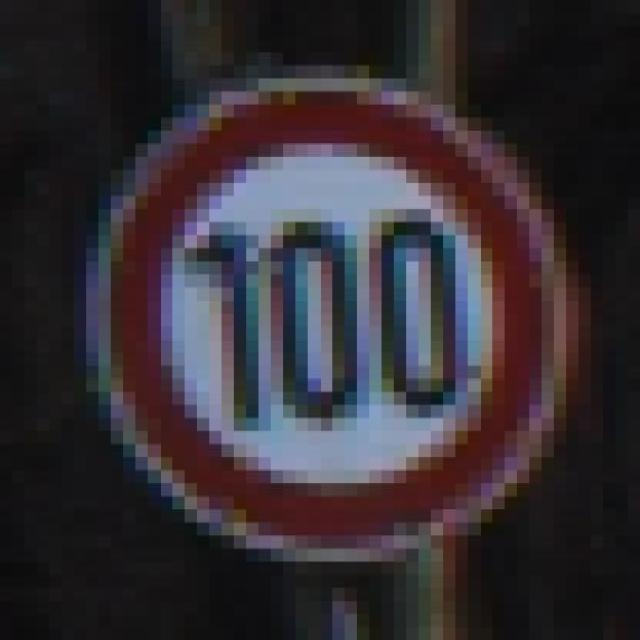forb_speed_over_100: (99, 84, 553, 561)
